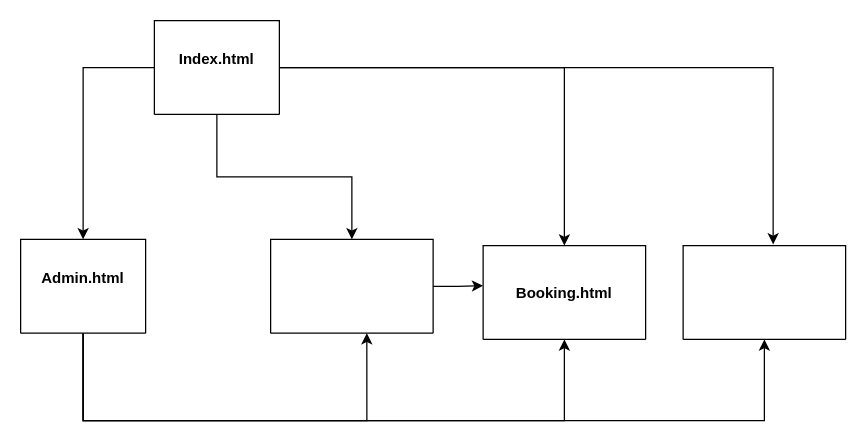
Some shapes in this 866 by 441 pixel diagram are drawn without their labels. The box of each missing label's shape, as (x1, y1, x2, y2) in pixels:
Contact.html: (682, 244, 846, 339)
Services.html: (269, 238, 433, 333)
